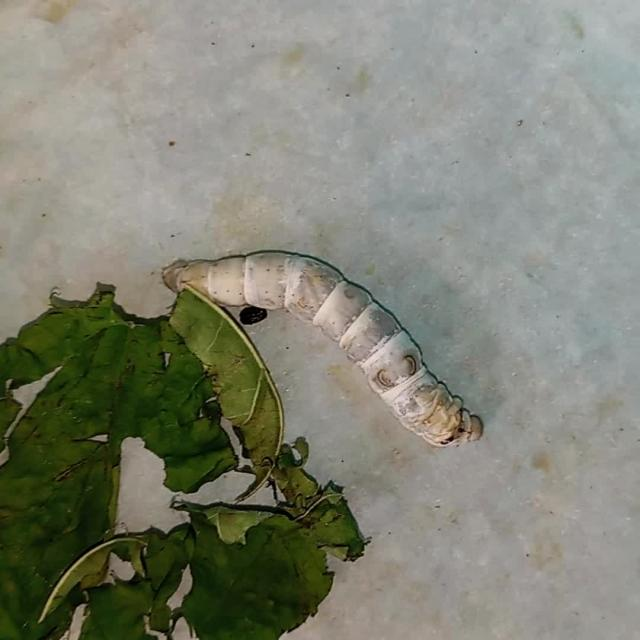Grasserie: (134, 203, 516, 501)
